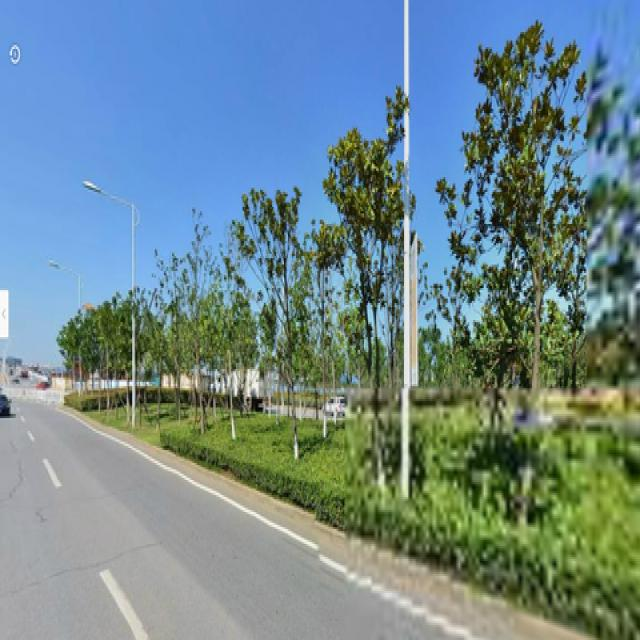magn: (480, 38, 571, 493), (335, 135, 408, 482), (247, 196, 313, 472)
